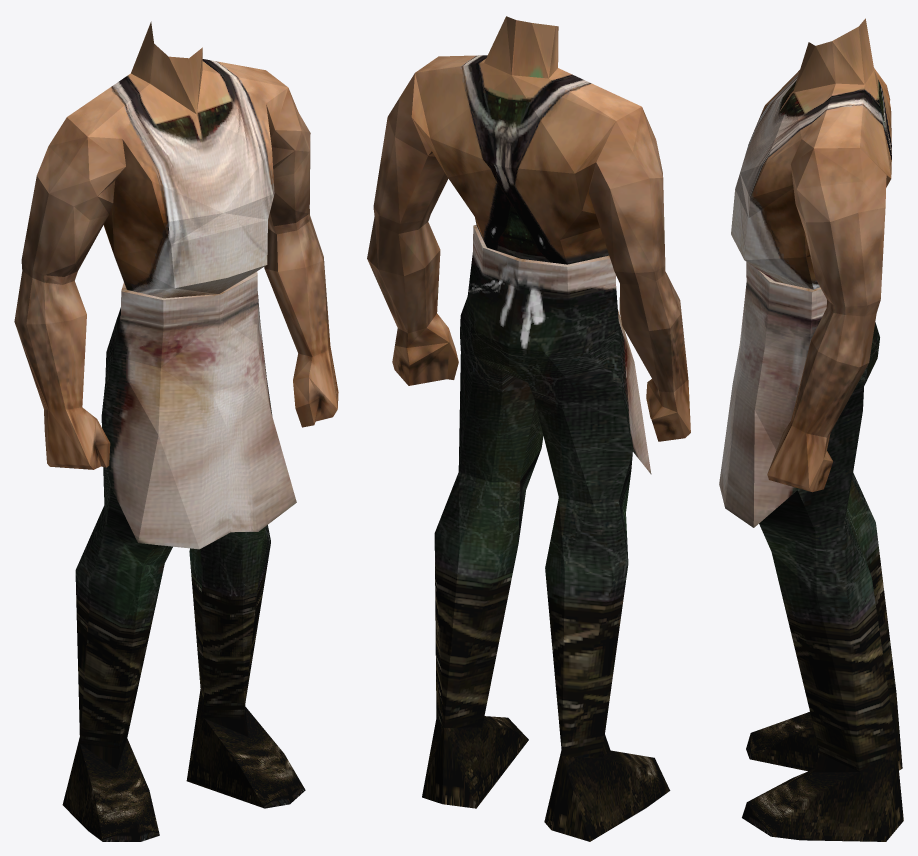
Rendered from HUM_BODY_COOKSMITH-B5bv9d1m.glb.
3 renders of one model, left to right at view 1: azimuth 30°, elevation 25°; view 2: azimuth 150°, elevation 25°; view 3: azimuth 270°, elevation 25°, orthographic.
Parts seen in each view (by area): view 1: zm_Skin; view 2: zm_Skin; view 3: zm_Skin.
Boxes of the visible parts, x1=… form: zm_Skin: x1=14, y1=21, x2=338, y2=841; zm_Skin: x1=367, y1=16, x2=690, y2=841; zm_Skin: x1=719, y1=18, x2=903, y2=841.
Bounding box in the file's own units: 0.6863 × 1.71 × 0.3649.
1 material, 1 textured.
